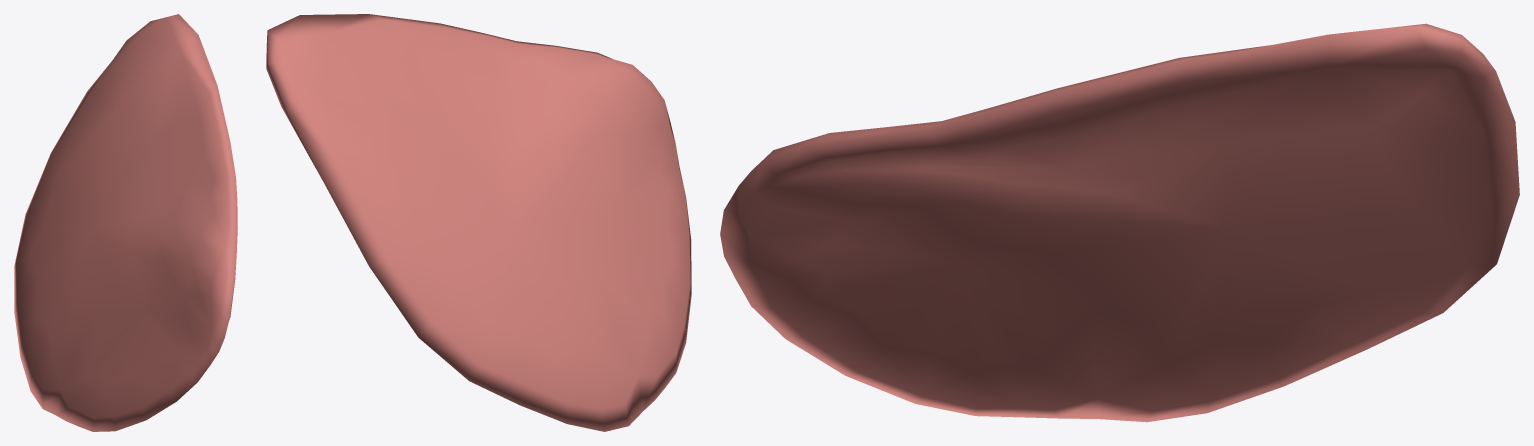
The picture shows the model from 3 angles, left to right: view 1: azimuth 30°, elevation 25°; view 2: azimuth 150°, elevation 25°; view 3: azimuth 270°, elevation 25°; orthographic projection. The views are drawn at different scales.
Parts seen in each view (by area): view 1: ZA_2480400d2ca9f8d4; view 2: ZA_2480400d2ca9f8d4; view 3: ZA_2480400d2ca9f8d4.
Part boxes in pixels (x1,y1,x2,y2): ZA_2480400d2ca9f8d4: [14, 14, 237, 431]; ZA_2480400d2ca9f8d4: [266, 14, 691, 431]; ZA_2480400d2ca9f8d4: [720, 23, 1519, 422].
Bounding box in the file's own units: 0.00582 × 0.00809 × 0.0099.
